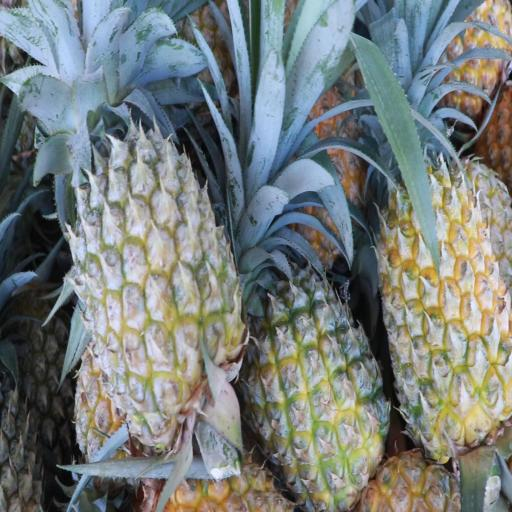------------------------------: (80, 134, 238, 437)
Pineapple - v8 v1: (380, 171, 512, 454), (250, 275, 386, 502), (423, 0, 512, 105)
